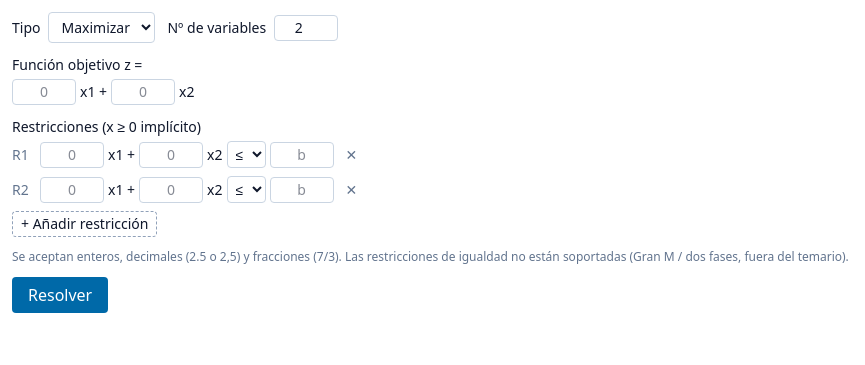
Test: FormularioGuiado › ajusta el número de variables y añade restricciones
Replace the text in the number field labelled "Nº de variables" with "3" at (306, 28), box 274,14 -> 338,40
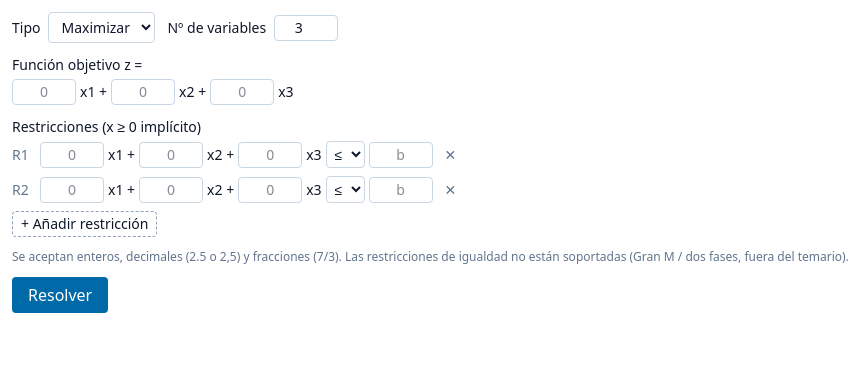
Expected: the field named "Coeficiente de x3 en z" is shown, 210,79 -> 274,105
Click the button "+ Añadir restricción" at (85, 224), box 12,211 -> 158,237
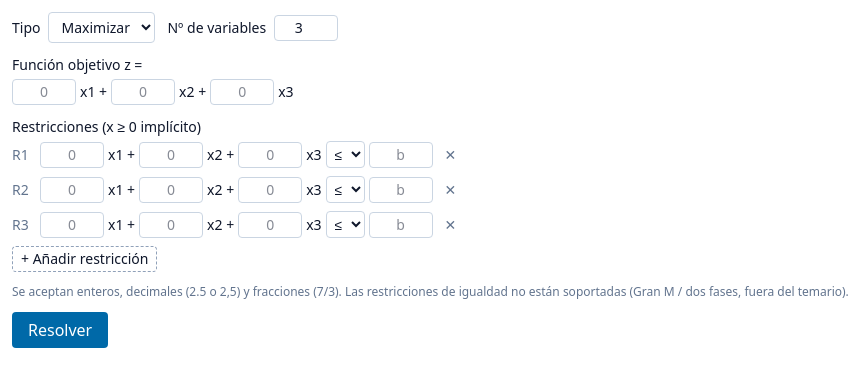
Expected: the field named "Coeficiente de x3 en la restricción 3" is shown, 238,212 -> 302,238
